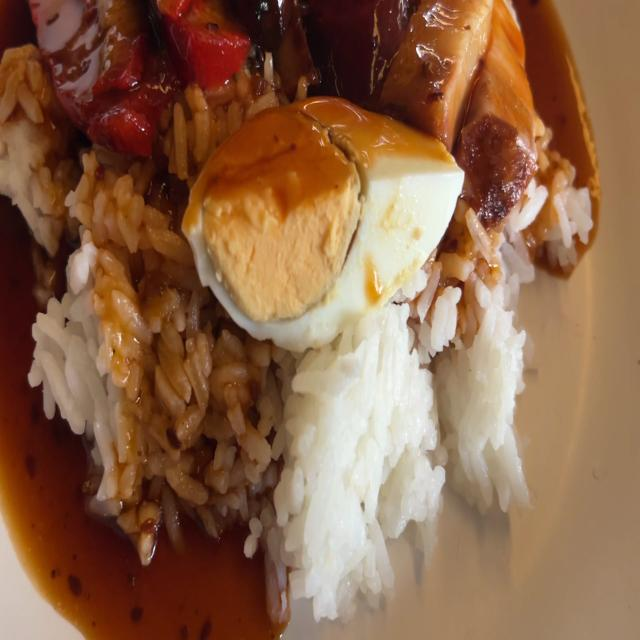01boiled_egg: (192, 98, 466, 333)
01chainese_sausage: (248, 0, 400, 103), (242, 0, 319, 108), (322, 0, 399, 88)
01crispy_pork: (462, 0, 530, 221), (381, 0, 475, 121)
01red_pork: (30, 0, 242, 159), (41, 0, 170, 153), (161, 0, 246, 84)
01red_pork_and_crispy_pork: (0, 0, 586, 617)
01rice: (28, 179, 248, 532), (265, 329, 448, 609), (446, 278, 536, 506), (531, 110, 576, 280)
